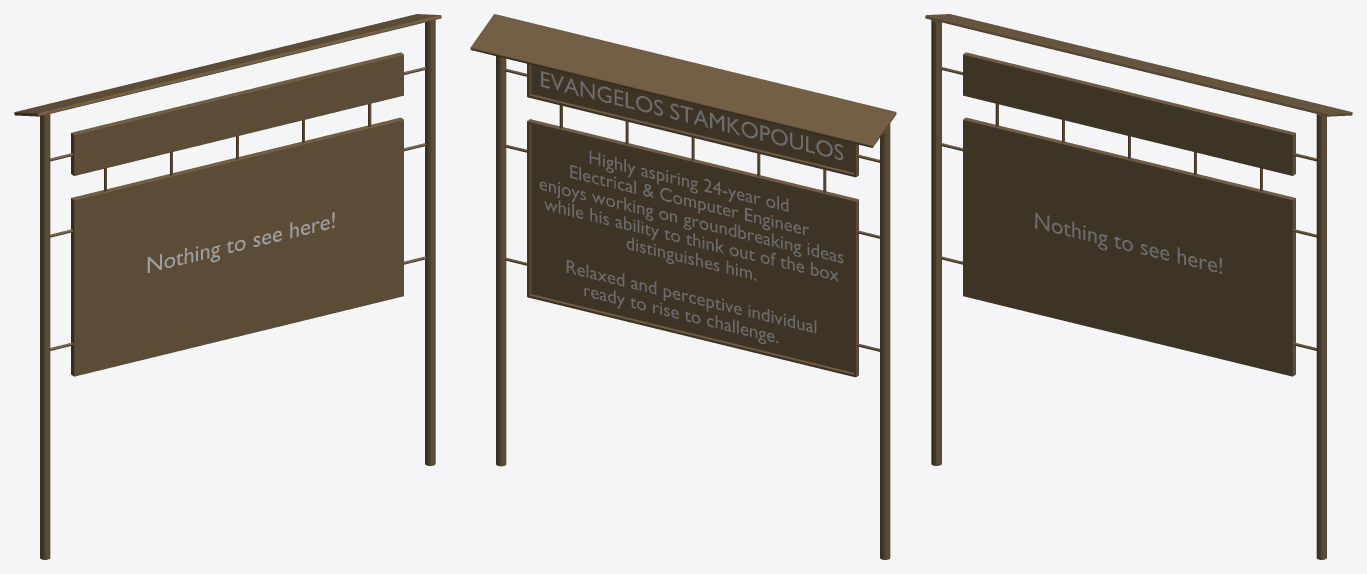
File: stand1low.gltf
3 renders of one model, left to right at view 1: azimuth 30°, elevation 25°; view 2: azimuth 150°, elevation 25°; view 3: azimuth 330°, elevation 25°, orthographic.
Visible parts, largest first — view 1: NEws, Text.002; view 2: NEws, Text.001, Text; view 3: NEws, Text.002.
Part boxes in pixels (box(x1,y1,x2,y2)): NEws: box(14, 14, 441, 559); Text.002: box(147, 212, 334, 272); NEws: box(470, 14, 896, 559); Text.001: box(539, 150, 843, 343); Text: box(541, 71, 843, 159); NEws: box(925, 14, 1352, 559); Text.002: box(1035, 212, 1221, 273).
Bounding box in the file's own units: 3.3 × 3.5 × 0.3512.
